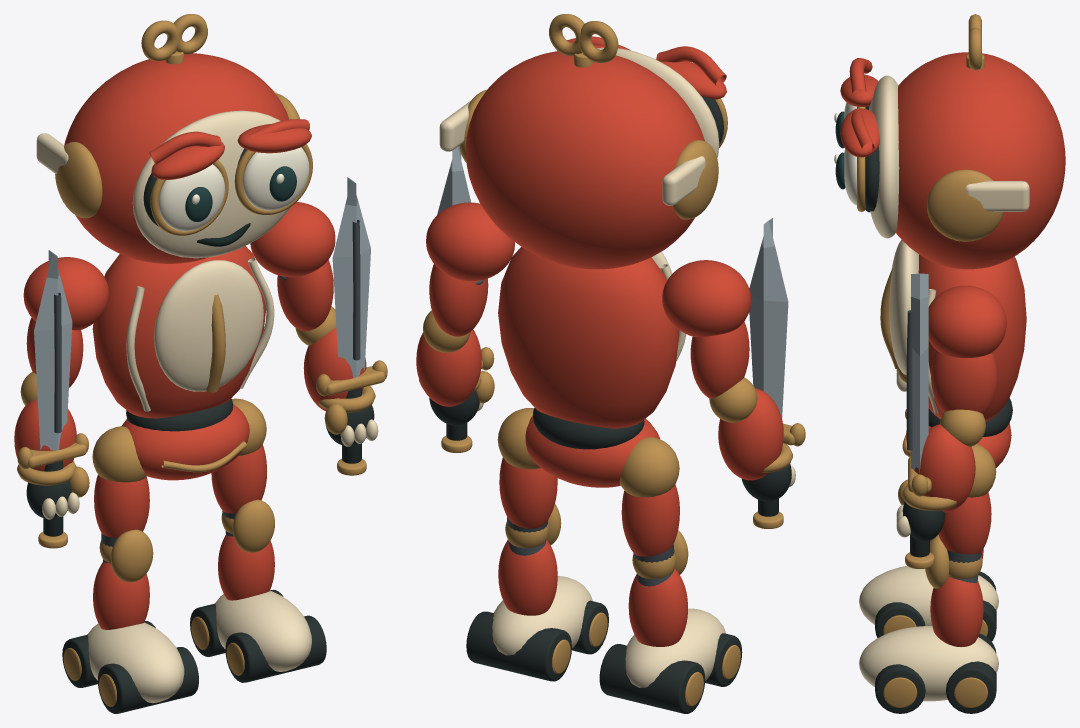
The model's file is roller-daredevil.t3.glb.
3 views of the same model, side by side, from view 1: azimuth 30°, elevation 25°; view 2: azimuth 150°, elevation 25°; view 3: azimuth 270°, elevation 25° (orthographic). The views are drawn at different scales.
Parts seen in each view (by area): view 1: helmet outer shell, racer aerodynamic shell, ivory racing bib, head__mk7_brass, round friendly face, head__mk7_white, designer toy boot L, designer toy boot R, pelvis armour bridge, honed dangerous blade L, honed dangerous blade R, rounded shoulder armour R (+37 smaller); view 2: helmet outer shell, racer aerodynamic shell, rounded shoulder armour L, honed dangerous blade L, rounded shoulder armour R, head__mk7_brass, pelvis armour bridge, cast forearm L, designer toy boot L, designer toy boot R, roller tire L-0.02, roller tire R-0.02 (+25 smaller); view 3: helmet outer shell, racer aerodynamic shell, designer toy boot R, head__mk7_brass, rounded shoulder armour R, round friendly face, upper arm clay sleeve R, cast forearm R, honed dangerous blade R, designer toy boot L, curved shin guard R, ivory racing bib (+24 smaller).
Boxes of the visible parts, x1,y1,x2,y2 form: helmet outer shell: [64, 53, 288, 263]; racer aerodynamic shell: [92, 246, 266, 418]; ivory racing bib: [154, 260, 263, 391]; head__mk7_brass: [55, 14, 312, 235]; round friendly face: [132, 110, 290, 258]; head__mk7_white: [158, 147, 309, 231]; designer toy boot L: [87, 622, 184, 703]; designer toy boot R: [215, 590, 311, 671]; pelvis armour bridge: [121, 404, 249, 480]; honed dangerous blade L: [34, 250, 72, 450]; honed dangerous blade R: [332, 177, 370, 377]; rounded shoulder armour R: [250, 202, 335, 277]; helmet outer shell: [465, 51, 704, 269]; racer aerodynamic shell: [498, 247, 679, 428]; rounded shoulder armour L: [662, 260, 751, 337]; honed dangerous blade L: [749, 218, 788, 417]; rounded shoulder armour R: [426, 202, 514, 281]; head__mk7_brass: [459, 14, 727, 219]; pelvis armour bridge: [525, 415, 659, 487]; cast forearm L: [718, 388, 783, 480]; designer toy boot L: [625, 608, 725, 687]; designer toy boot R: [492, 576, 592, 655]; roller tire L-0.02: [599, 644, 705, 713]; roller tire R-0.02: [466, 611, 571, 681]; helmet outer shell: [896, 52, 1065, 269]; racer aerodynamic shell: [918, 254, 1026, 421]; designer toy boot R: [859, 626, 998, 701]; head__mk7_brass: [857, 14, 1003, 241]; rounded shoulder armour R: [928, 285, 1006, 357]; round friendly face: [869, 75, 899, 238]; upper arm clay sleeve R: [931, 351, 997, 414]; cast forearm R: [914, 424, 975, 512]; honed dangerous blade R: [911, 273, 928, 473]; designer toy boot L: [859, 566, 998, 625]; curved shin guard R: [930, 577, 983, 646]; ivory racing bib: [889, 240, 918, 374].
Size of the model in its own units: 1.53 by 2.55 by 0.833.
